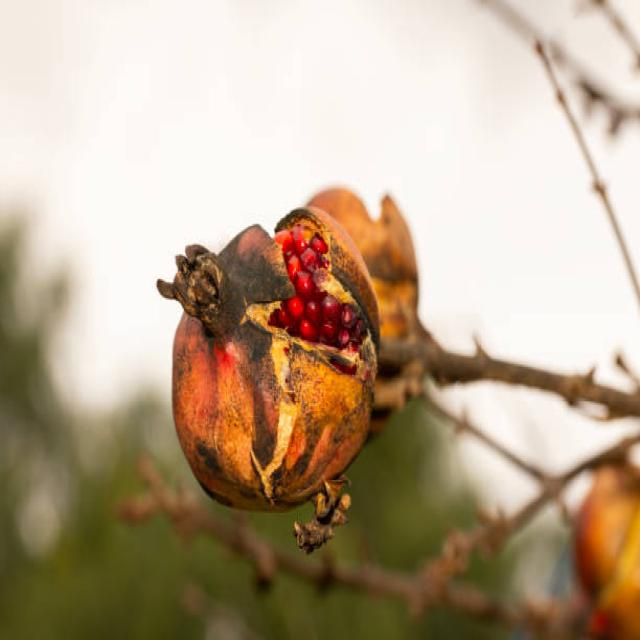overripe: (162, 202, 382, 553)
